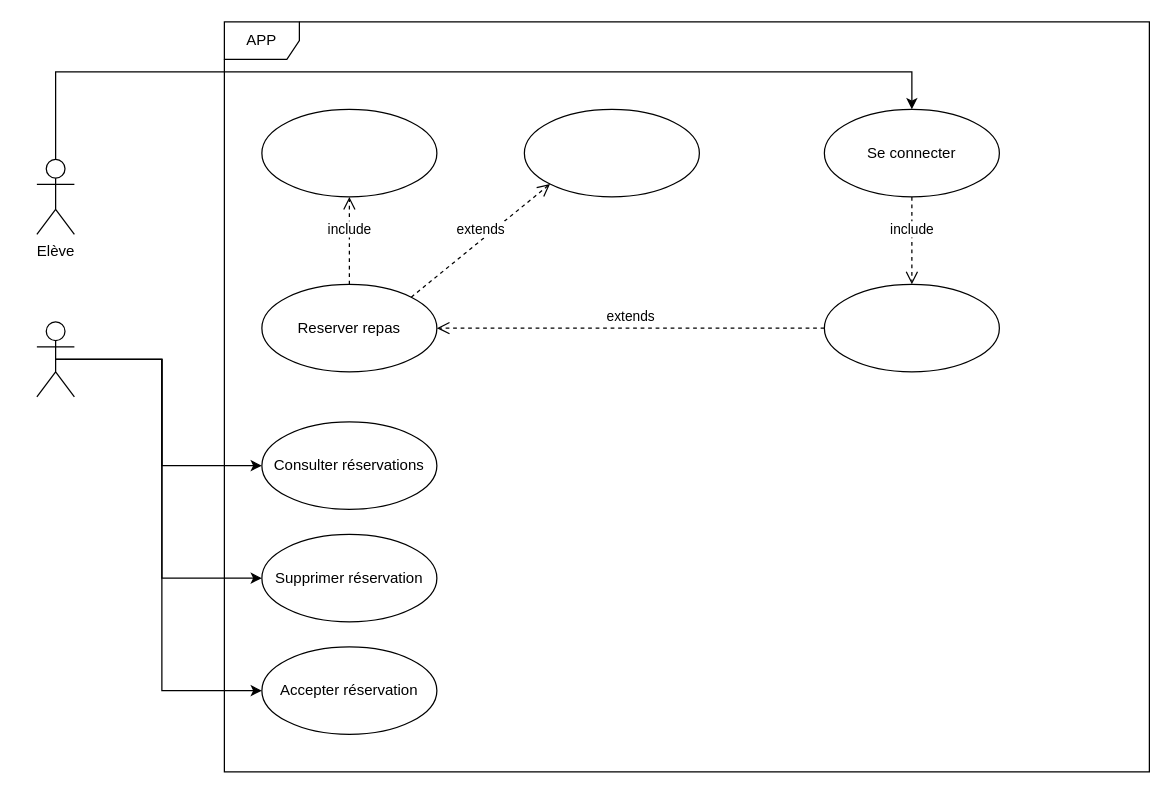
Image size: 1171x794. Some labels were removed from this diagram. Each missing label, with the centre of its shape:
Annuler réservation: (611,152)
Consulter Menu: (349,152)
Personnel: (55,359)
S'inscrire: (911,327)
